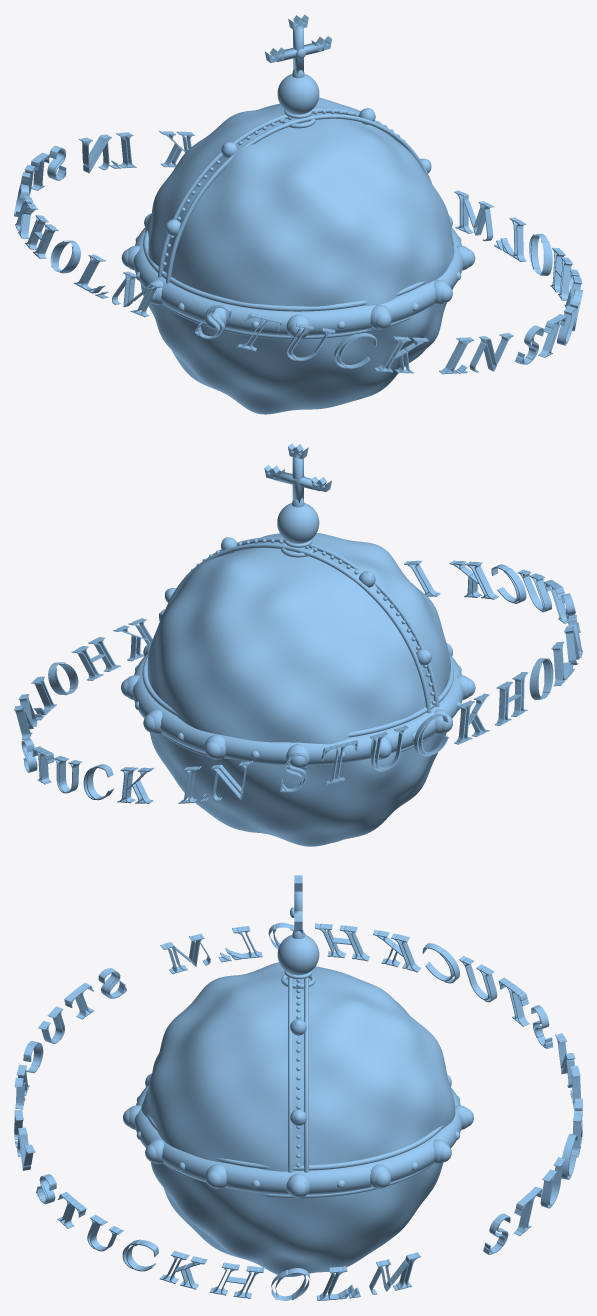
The model's file is blobben_5.glb.
The picture shows the model from 3 angles, top to bottom: view 1: azimuth 30°, elevation 25°; view 2: azimuth 150°, elevation 25°; view 3: azimuth 270°, elevation 25°; orthographic projection.
Visible parts, largest first — view 1: BLOBBI part 02, Raven Live Script preview (×18), BLOBBI part 06, BLOBBI part 04, Slät kula under kronan, BLOBBI part 03, BLOBBI part 07, BLOBBI part 05; view 2: BLOBBI part 02, Raven Live Script preview (×17), BLOBBI part 06, BLOBBI part 04, Slät kula under kronan, BLOBBI part 03, BLOBBI part 07, BLOBBI part 05; view 3: BLOBBI part 02, Raven Live Script preview (×17), BLOBBI part 06, BLOBBI part 04, BLOBBI part 03, Slät kula under kronan, BLOBBI part 05, BLOBBI part 07.
Boxes of the visible parts, bbox=[...] form: BLOBBI part 02: bbox=[140, 97, 454, 414]; Raven Live Script preview (×18): bbox=[15, 131, 579, 374]; BLOBBI part 06: bbox=[133, 108, 463, 339]; BLOBBI part 04: bbox=[128, 108, 468, 338]; Slät kula under kronan: bbox=[277, 74, 319, 114]; BLOBBI part 03: bbox=[121, 48, 475, 338]; BLOBBI part 07: bbox=[277, 25, 323, 128]; BLOBBI part 05: bbox=[135, 109, 461, 329]; BLOBBI part 02: bbox=[147, 533, 450, 846]; Raven Live Script preview (×17): bbox=[14, 560, 582, 803]; BLOBBI part 06: bbox=[132, 537, 464, 768]; BLOBBI part 04: bbox=[127, 537, 469, 768]; Slät kula under kronan: bbox=[277, 503, 319, 543]; BLOBBI part 03: bbox=[121, 475, 475, 767]; BLOBBI part 07: bbox=[272, 455, 319, 557]; BLOBBI part 05: bbox=[135, 539, 461, 759]; BLOBBI part 02: bbox=[141, 962, 455, 1276]; Raven Live Script preview (×17): bbox=[38, 923, 565, 1300]; BLOBBI part 06: bbox=[134, 977, 462, 1198]; BLOBBI part 04: bbox=[129, 1019, 467, 1197]; BLOBBI part 03: bbox=[123, 907, 473, 1197]; Slät kula under kronan: bbox=[277, 935, 319, 974]; BLOBBI part 05: bbox=[136, 979, 459, 1188]; BLOBBI part 07: bbox=[281, 891, 315, 988].
Size of the model in its own units: 0.3782 by 0.2836 by 0.3824.
